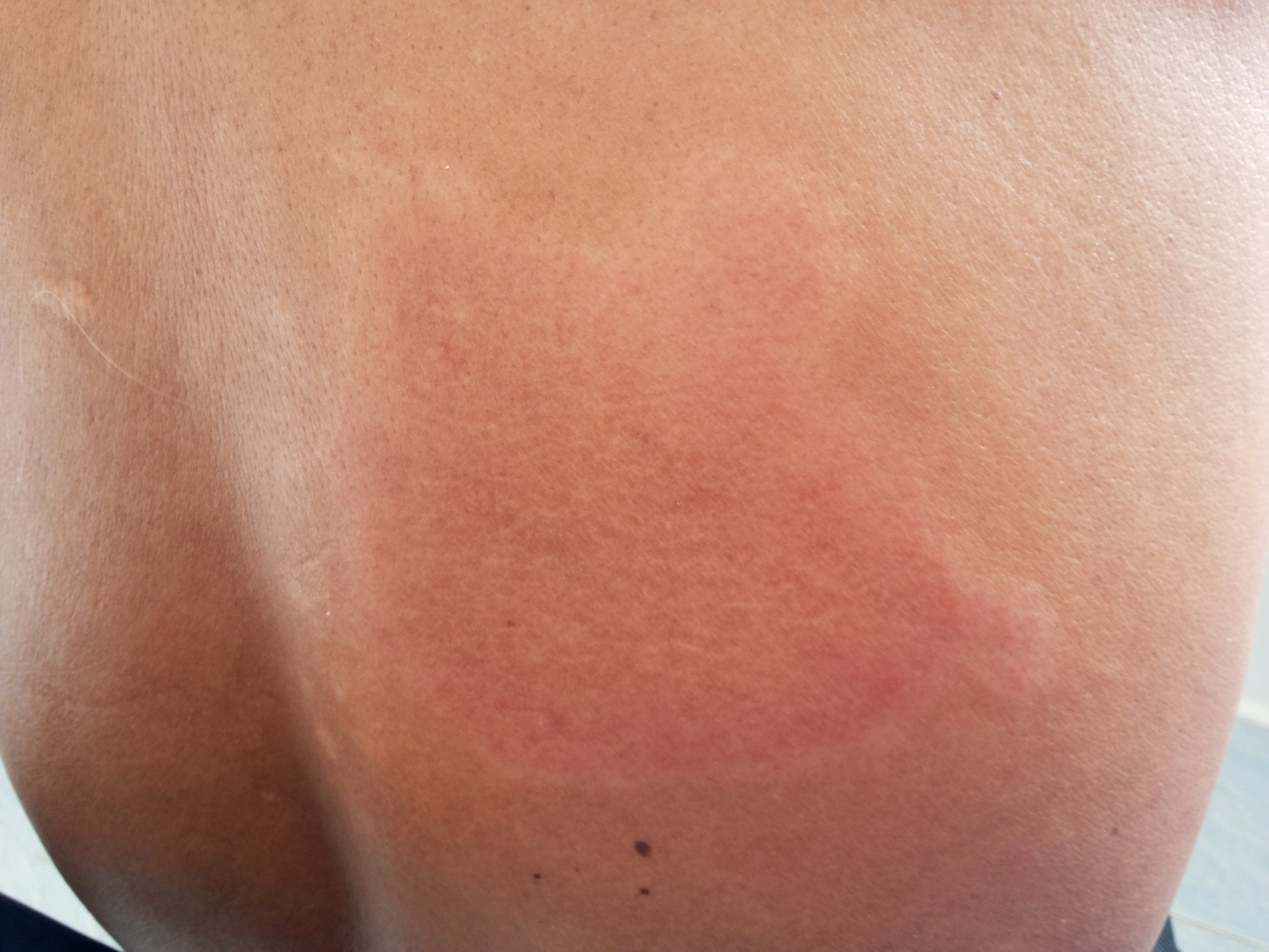Leprosy: (317, 122, 1070, 802)
